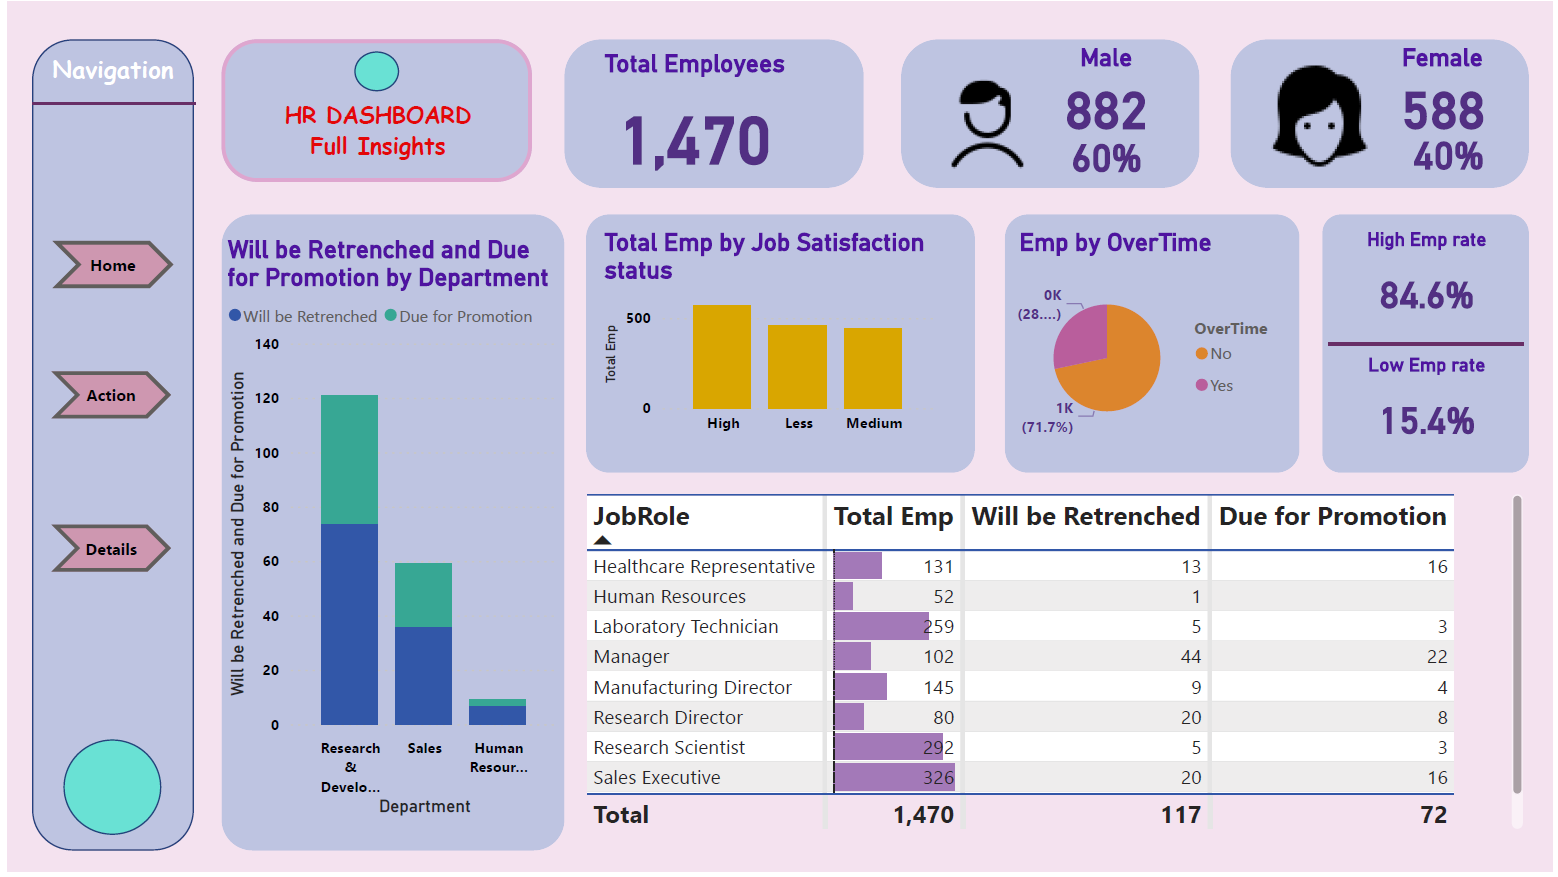

This screenshot's page, from the dashboard's own definition file:
{"tool":"powerbi","page":{"name":"Details","canvas":[1280,720],"ordinal":2},"visuals":[{"type":"shape","box":[177.1,31.4,257.1,117.1],"z":0},{"type":"shape","box":[1012.9,31.4,247.1,122.9],"z":1000},{"type":"shape","box":[740,31.4,247.1,122.9],"z":2000},{"type":"shape","box":[461.4,31.4,247.1,122.9],"z":3000},{"type":"shape","box":[287.1,41.4,37.1,32.9],"z":4000},{"type":"textbox","box":[187.1,74.3,238.6,74.3],"z":5000},{"type":"card","title":"Total Employees","fields":{"Values":["All Measures.Total Emp"]},"box":[461.4,38.6,215.7,115.7],"z":6000},{"type":"card","title":"Male","fields":{"Values":["All Measures.Male"]},"box":[832.9,34.3,154.3,80],"z":7000},{"type":"card","fields":{"Values":["All Measures.%male"]},"box":[857.1,90,105.7,74.3],"z":8000},{"type":"image","box":[758.6,42.9,105.7,105.7],"z":9000},{"type":"card","title":"Female","fields":{"Values":["All Measures.Female"]},"box":[1127.1,34.3,122.9,80],"z":10000},{"type":"card","fields":{"Values":["All Measures.%Female"]},"box":[1127.1,90,132.9,70],"z":11000},{"type":"image","box":[1035.7,40,101.4,108.6],"z":12000},{"type":"shape","box":[177.1,175.7,284.3,527.1],"z":13000},{"type":"columnChart","fields":{"Category":["in.Department"],"Y":["All Measures.Will be Retrenched","All Measures.Due for Promotion"]},"box":[177.1,192.9,284.3,485.7],"z":14000},{"type":"shape","box":[478.6,175.7,322.9,214.3],"z":15000},{"type":"shape","box":[825.7,175.7,244.3,214.3],"z":16000},{"type":"shape","box":[1088.6,175.7,171.4,214.3],"z":17000},{"type":"columnChart","fields":{"Category":["in.Job Satisfaction status"],"Y":["All Measures.Total Emp"]},"box":[488.6,187.1,284.3,180],"z":18000},{"type":"pieChart","title":"Emp by OverTime","fields":{"Category":["in.OverTime"],"Y":["All Measures.Total Emp"]},"box":[832.9,187.1,225.7,192.9],"z":19000},{"type":"shape","box":[1094.3,262.9,161.4,41.4],"z":20000},{"type":"tableEx","fields":{"Values":["in.JobRole","All Measures.Total Emp","All Measures.Will be Retrenched","All Measures.Due for Promotion"]},"box":[474.3,402.9,785.7,287.1],"z":21000},{"type":"shape","box":[20,31.4,134.3,671.4],"z":22000},{"type":"shape","box":[46.4,610.7,81,79.8],"z":23000},{"type":"shape","box":[20.2,58.3,134.5,51.2],"z":24000},{"type":"card","title":"High Emp rate","fields":{"Values":["All Measures.% High rate"]},"box":[1116,187,118.7,88.7],"z":25000},{"type":"card","title":"Low Emp rate","fields":{"Values":["All Measures.% Low rate"]},"box":[1116,291.3,118.7,88.7],"z":26000},{"type":"actionButton","box":[37.2,197.8,99.5,39.6],"z":27000},{"type":"actionButton","box":[36,305.7,99.5,39.6],"z":28000},{"type":"actionButton","box":[36,432.7,99.5,39.6],"z":29000},{"type":"actionButton","box":[55,96.7,121.7,68.3],"z":30000}]}

Visuals, with their boxes in screenshot pixels (x1, y1, x2, y2), scaled from the page's 1280x720 canvas onto the 1558x877 screenshot:
shape: (x1=216, y1=38, x2=529, y2=181)
shape: (x1=1233, y1=38, x2=1534, y2=188)
shape: (x1=901, y1=38, x2=1201, y2=188)
shape: (x1=562, y1=38, x2=862, y2=188)
shape: (x1=349, y1=50, x2=395, y2=91)
textbox: (x1=228, y1=91, x2=518, y2=181)
"Total Employees" card: (x1=562, y1=47, x2=824, y2=188)
"Male" card: (x1=1014, y1=42, x2=1202, y2=139)
card - All Measures.%male: (x1=1043, y1=110, x2=1172, y2=200)
image: (x1=923, y1=52, x2=1052, y2=181)
"Female" card: (x1=1372, y1=42, x2=1521, y2=139)
card - All Measures.%Female: (x1=1372, y1=110, x2=1534, y2=195)
image: (x1=1261, y1=49, x2=1384, y2=181)
shape: (x1=216, y1=214, x2=562, y2=856)
columnChart - in.Department x All Measures.Will be Retrenched: (x1=216, y1=235, x2=562, y2=827)
shape: (x1=583, y1=214, x2=976, y2=475)
shape: (x1=1005, y1=214, x2=1302, y2=475)
shape: (x1=1325, y1=214, x2=1534, y2=475)
columnChart - in.Job Satisfaction status x All Measures.Total Emp: (x1=595, y1=228, x2=941, y2=447)
"Emp by OverTime" pieChart: (x1=1014, y1=228, x2=1289, y2=463)
shape: (x1=1332, y1=320, x2=1528, y2=371)
tableEx - in.JobRole x All Measures.Total Emp: (x1=577, y1=491, x2=1534, y2=840)
shape: (x1=24, y1=38, x2=188, y2=856)
shape: (x1=56, y1=744, x2=155, y2=841)
shape: (x1=25, y1=71, x2=188, y2=133)
"High Emp rate" card: (x1=1358, y1=228, x2=1503, y2=336)
"Low Emp rate" card: (x1=1358, y1=355, x2=1503, y2=463)
actionButton: (x1=45, y1=241, x2=166, y2=289)
actionButton: (x1=44, y1=372, x2=165, y2=421)
actionButton: (x1=44, y1=527, x2=165, y2=575)
actionButton: (x1=67, y1=118, x2=215, y2=201)
